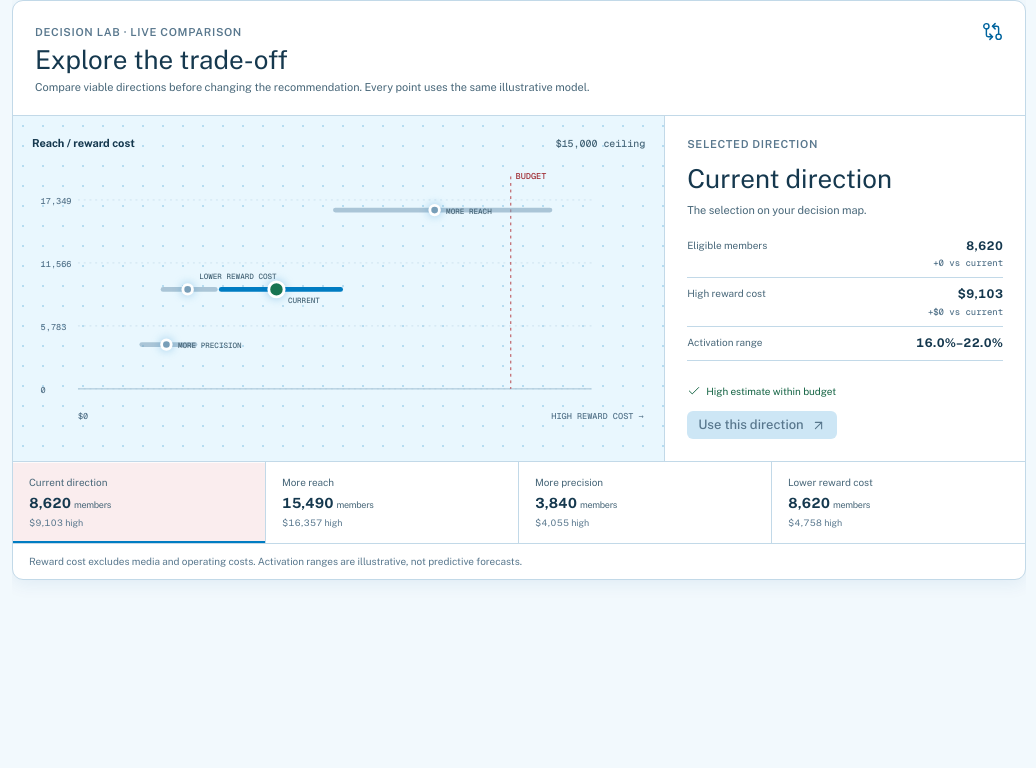
Test case: scenario comparison › shows the reach and cost trade-off before applying a direction
Later steps or results of the test are not shown.
Click the button "More reach 15,490 members $16,357 high" at point(392, 503), box [266,462,519,543]
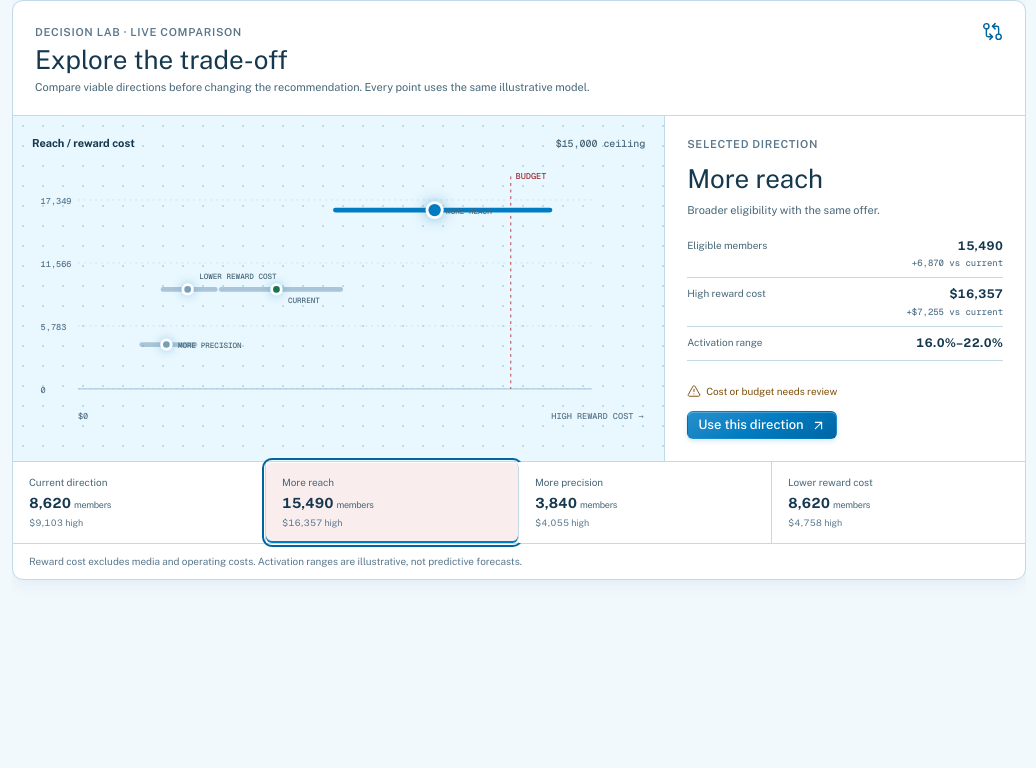
expect the heading "More reach" is shown: met, box [687,163,823,194]
expect the text "Cost or budget needs review" is shown: met, box [687,384,837,398]
